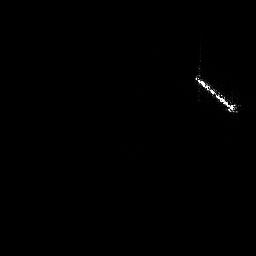ship: (194, 58, 241, 115)
